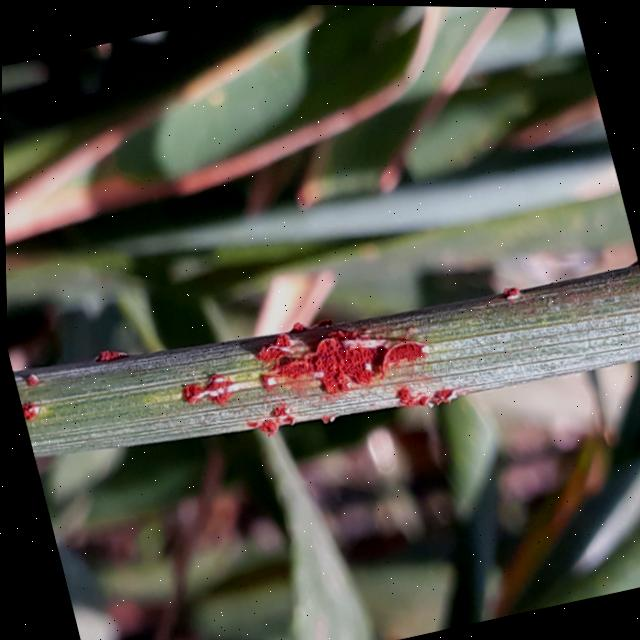black_stem_rust: (4, 201, 640, 536)
